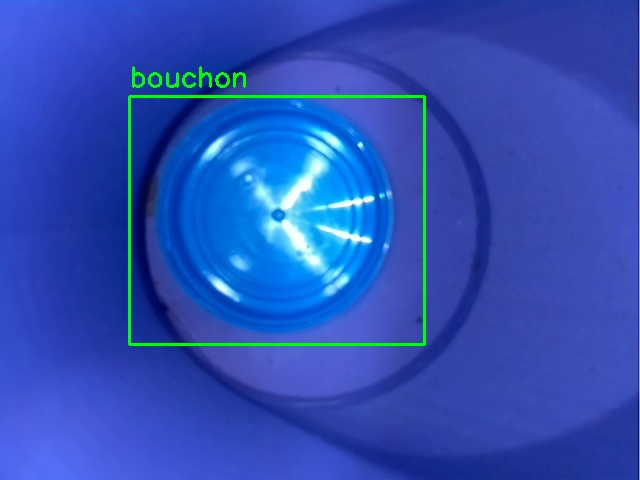bouchon: (129, 96, 424, 344)
